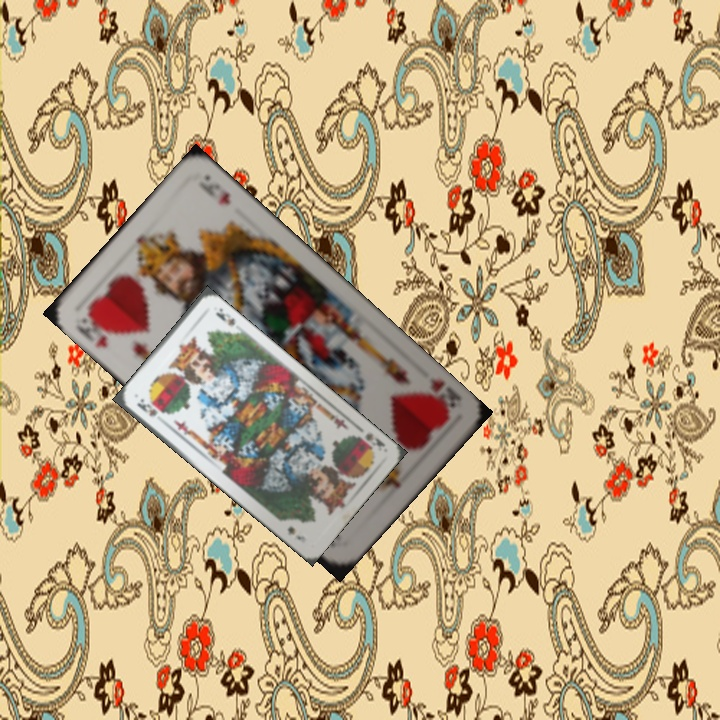HK: (416, 374, 464, 419), (71, 308, 115, 351)
SK: (133, 394, 160, 419), (361, 429, 387, 450)
